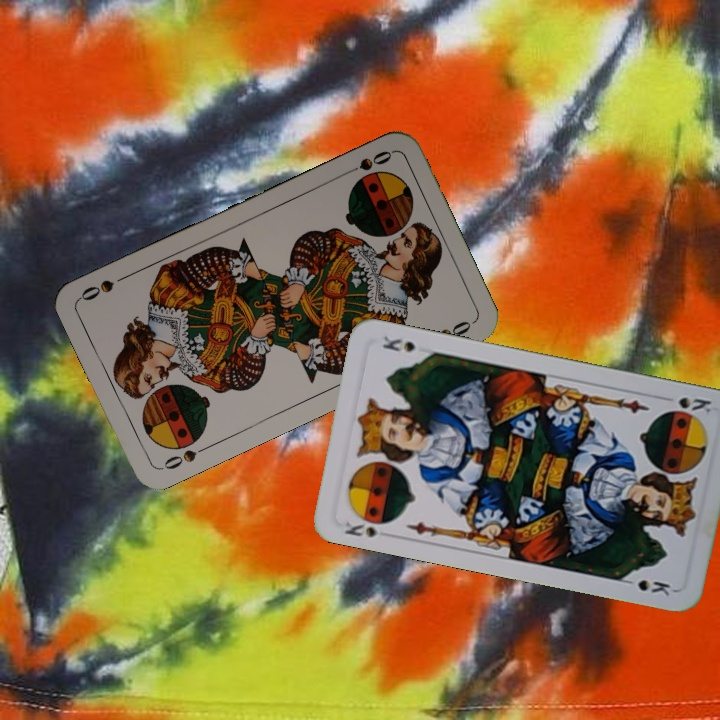SK: (657, 392, 714, 416), (339, 514, 380, 540)
SO: (339, 146, 395, 178), (157, 441, 212, 473)
